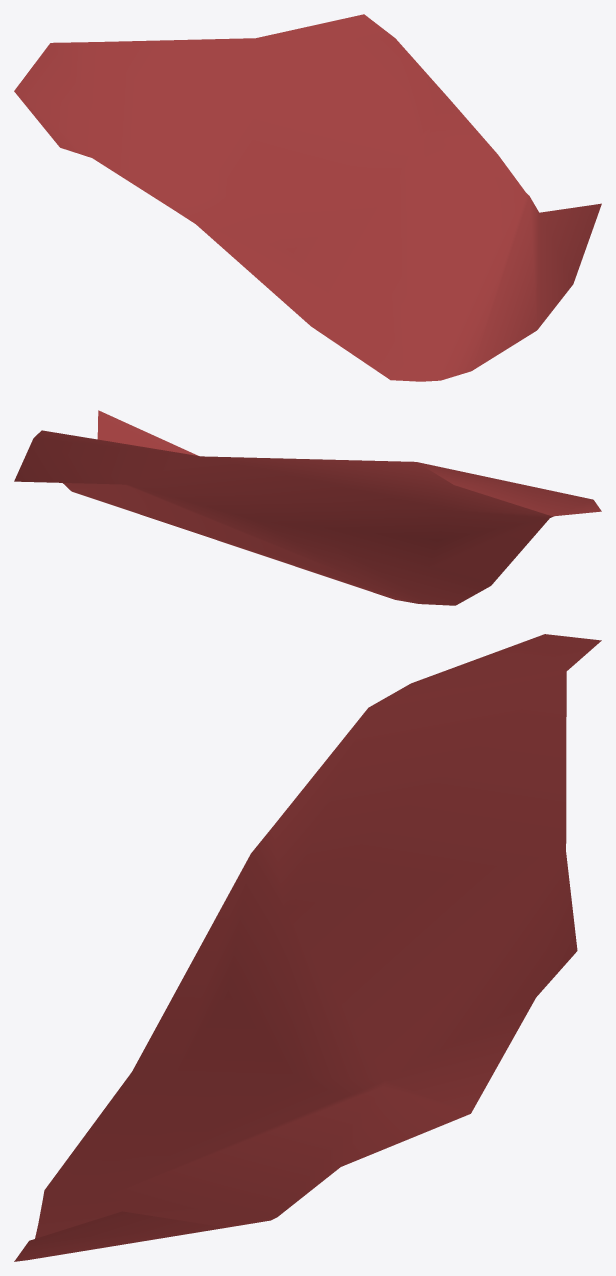
File: splenius-colli-muscle-e1r.glb
The picture shows the model from 3 angles, top to bottom: view 1: azimuth 30°, elevation 25°; view 2: azimuth 150°, elevation 25°; view 3: azimuth 270°, elevation 25°; orthographic projection. The views are drawn at different scales.
Parts seen in each view (by area): view 1: Splenius colli muscle.e1r; view 2: Splenius colli muscle.e1r; view 3: Splenius colli muscle.e1r.
Part boxes in pixels (box(x1,y1,x2,y2)): Splenius colli muscle.e1r: box(14, 14, 601, 381); Splenius colli muscle.e1r: box(14, 410, 601, 605); Splenius colli muscle.e1r: box(14, 634, 601, 1261).
Size of the model in its own units: 0.00506 by 0.00278 by 0.00344.
